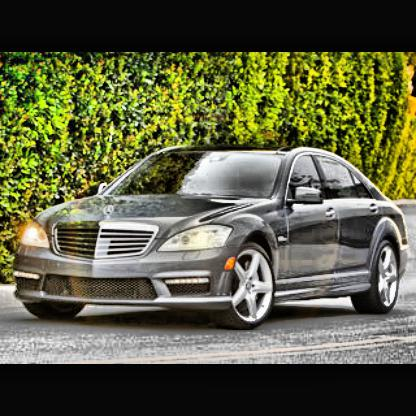Mercedes-Benz S-Class Sedan 2012: (14, 143, 413, 334)
